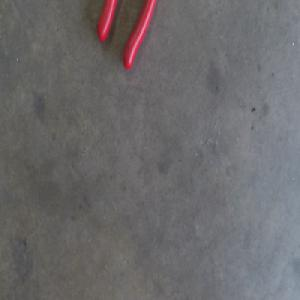Pliers: (98, 0, 158, 74)
